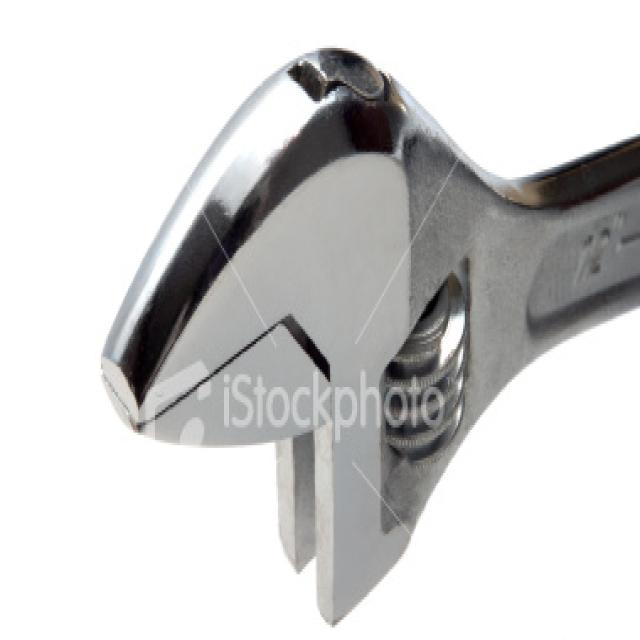wrench: (66, 34, 640, 640)
